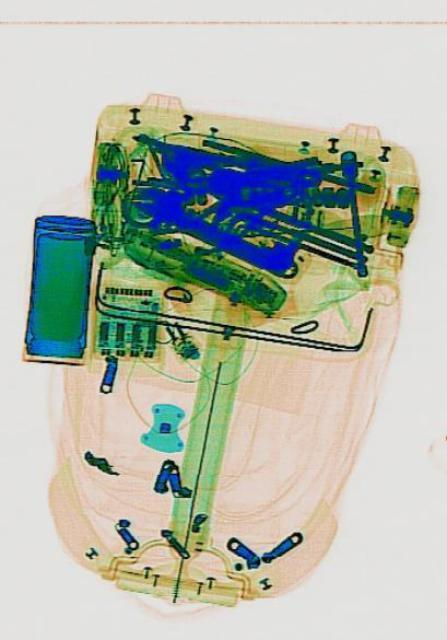Wrench: (130, 178, 299, 286)
